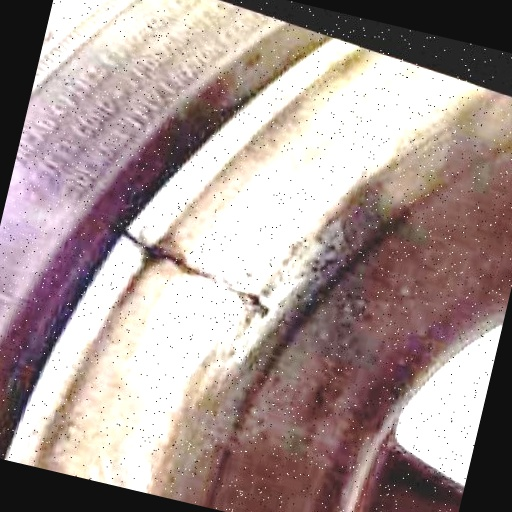crack: (107, 211, 313, 338)
